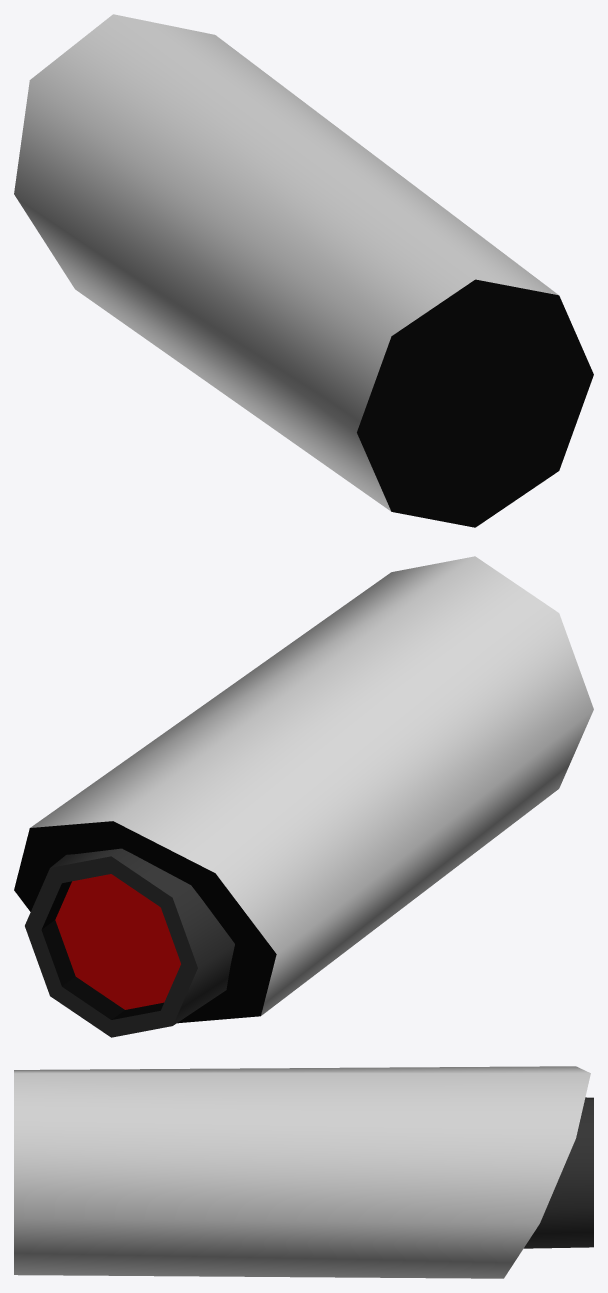
File: Camera.FBX
The picture shows the model from 3 angles, top to bottom: view 1: azimuth 30°, elevation 25°; view 2: azimuth 150°, elevation 25°; view 3: azimuth 270°, elevation 25°; orthographic projection. The views are drawn at different scales.
Parts seen in each view (by area): view 1: Cylinder001; view 2: Cylinder001; view 3: Cylinder001.
Part boxes in pixels (<box>): Cylinder001: <box>14,14,593,527</box>; Cylinder001: <box>14,556,593,1037</box>; Cylinder001: <box>14,1066,593,1278</box>.
Size of the model in its own units: 22.13 by 20.06 by 53.14.
1 material, 1 textured.
